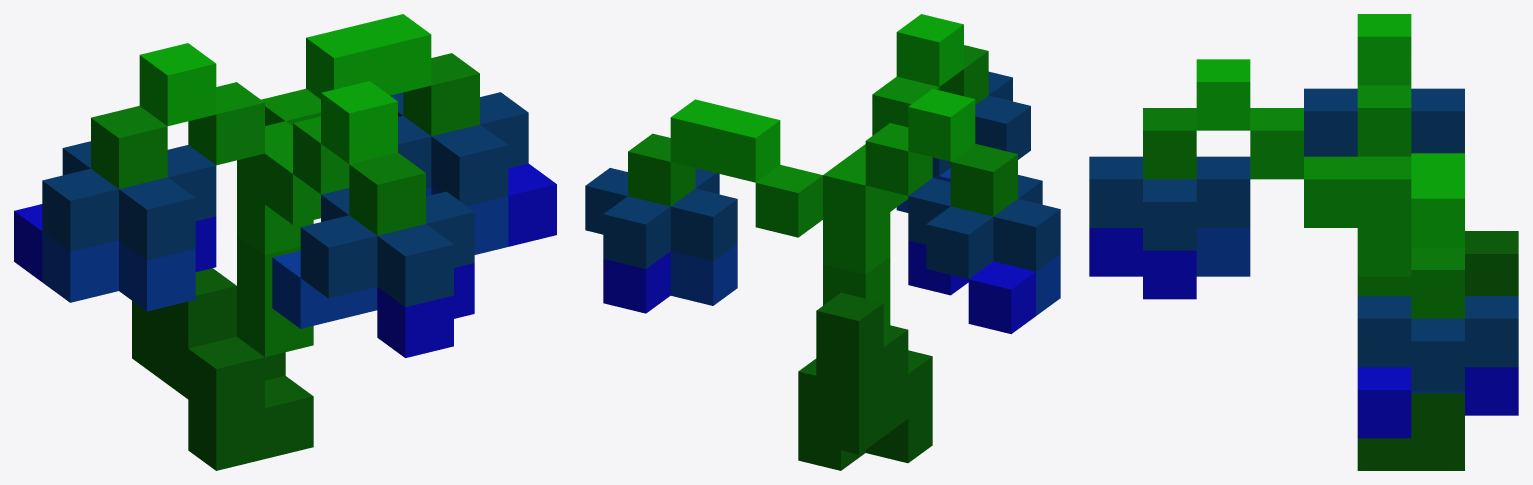
File: flower-3.glb
3 renders of one model, left to right at view 1: azimuth 30°, elevation 25°; view 2: azimuth 150°, elevation 25°; view 3: azimuth 270°, elevation 25°, orthographic. The views are drawn at different scales.
Parts seen in each view (by area): view 1: Node1; view 2: Node1; view 3: Node1.
Boxes of the visible parts, box(x1,y1,x2,y2) form: Node1: box(14, 14, 556, 470); Node1: box(585, 14, 1060, 470); Node1: box(1089, 14, 1518, 470).
Size of the model in its own units: 1 by 0.8 by 0.8.
